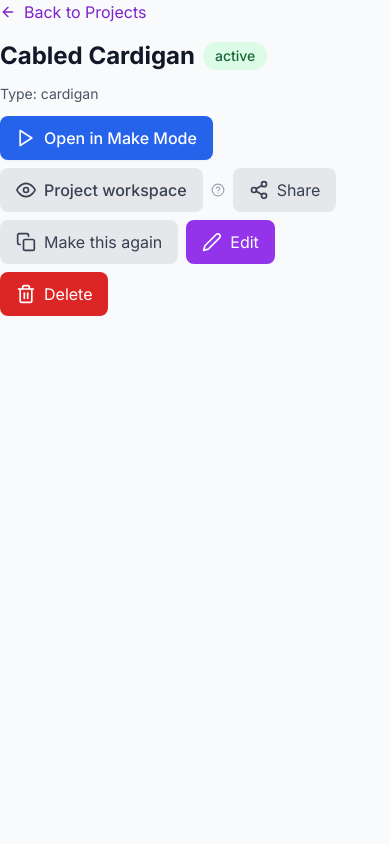
Test: ProjectHeader unified Make Mode entry › opens the picker when the project has multiple canonical patterns (N≥2 canonical)
This screenshot has width=390, height=844.
Click the button with test id "project-open-make-mode" at (106, 138), box 0,116 -> 213,160
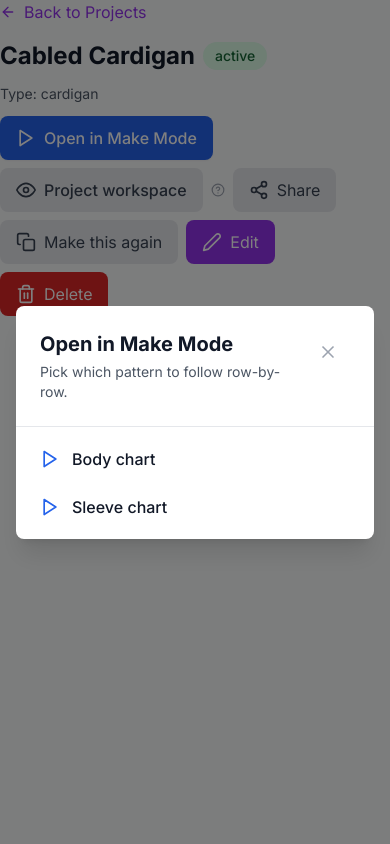
Now the list with test id "make-mode-picker-list" is shown, box 40,448 -> 167,516
Now the number of links with test id "make-mode-picker-canonical-row" is 2, box 40,448 -> 156,468; 40,496 -> 167,516
Now the text "Body chart" is shown, box 72,448 -> 156,468
